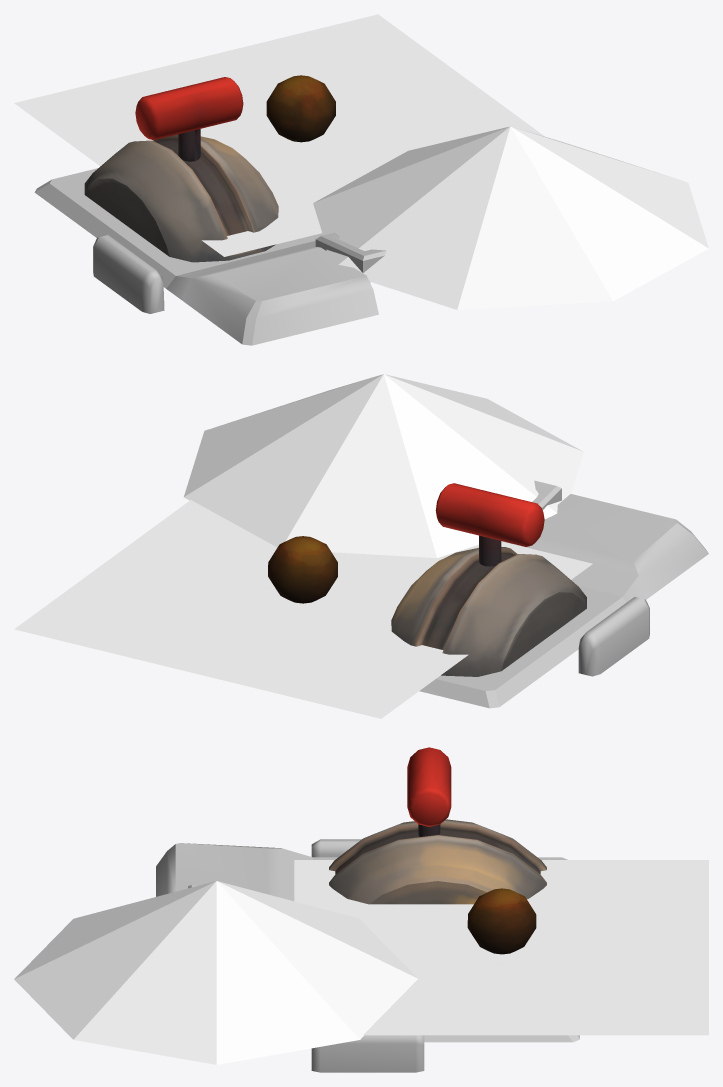
The model's file is NeedyDischargeComponent.fbx.
3 views of the same model, one above another, from view 1: azimuth 30°, elevation 25°; view 2: azimuth 150°, elevation 25°; view 3: azimuth 270°, elevation 25° (orthographic). The views are drawn at different scales.
Parts seen in each view (by area): view 1: LightGlow (×3), Background, Parts, Handle, LightBulb; view 2: LightGlow (×2), Background, Parts, Handle, LightBulb; view 3: LightGlow (×3), Parts, Background, LightBulb, Handle.
Boxes of the visible parts, x1,y1,x2,y2 form: LightGlow (×3): [14, 14, 708, 309]; Background: [34, 168, 386, 345]; Parts: [84, 134, 278, 262]; Handle: [135, 77, 243, 161]; LightBulb: [266, 75, 335, 142]; LightGlow (×2): [14, 374, 592, 718]; Background: [419, 480, 708, 708]; Parts: [391, 547, 586, 676]; Handle: [435, 483, 544, 566]; LightBulb: [268, 536, 337, 603]; LightGlow (×3): [14, 860, 708, 1064]; Parts: [329, 819, 546, 904]; Background: [156, 839, 579, 1072]; LightBulb: [467, 888, 536, 954]; Handle: [407, 747, 451, 836].
Bounding box in the file's own units: 0.239 × 0.0731 × 0.2954.
